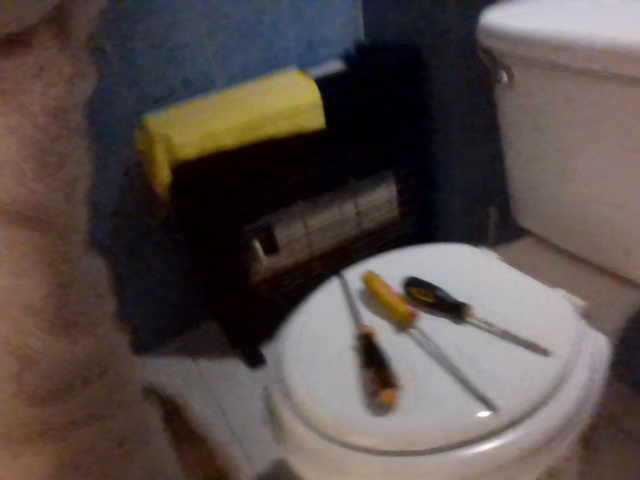destornillador: (359, 270, 501, 418), (401, 276, 555, 359), (334, 268, 400, 407)
